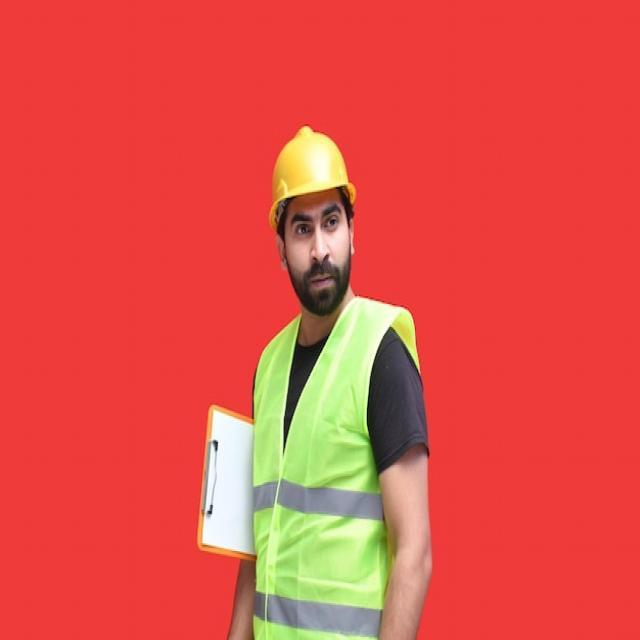Vest: (245, 302, 437, 640)
